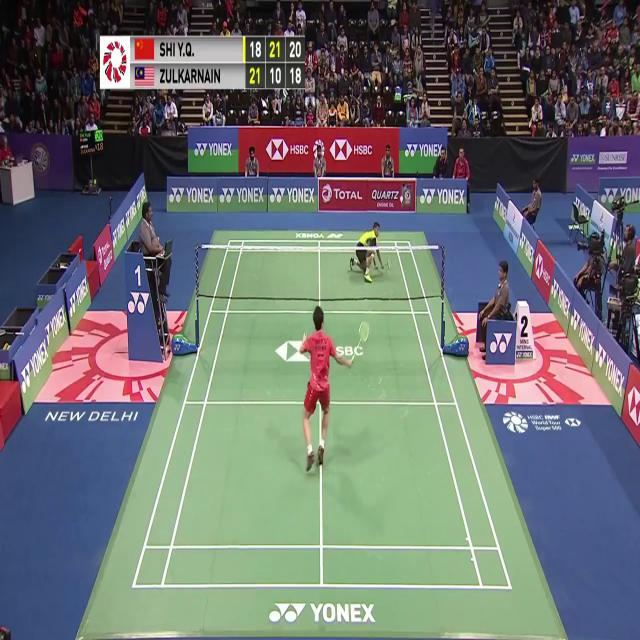Shuttlecock: (398, 195, 404, 207)
